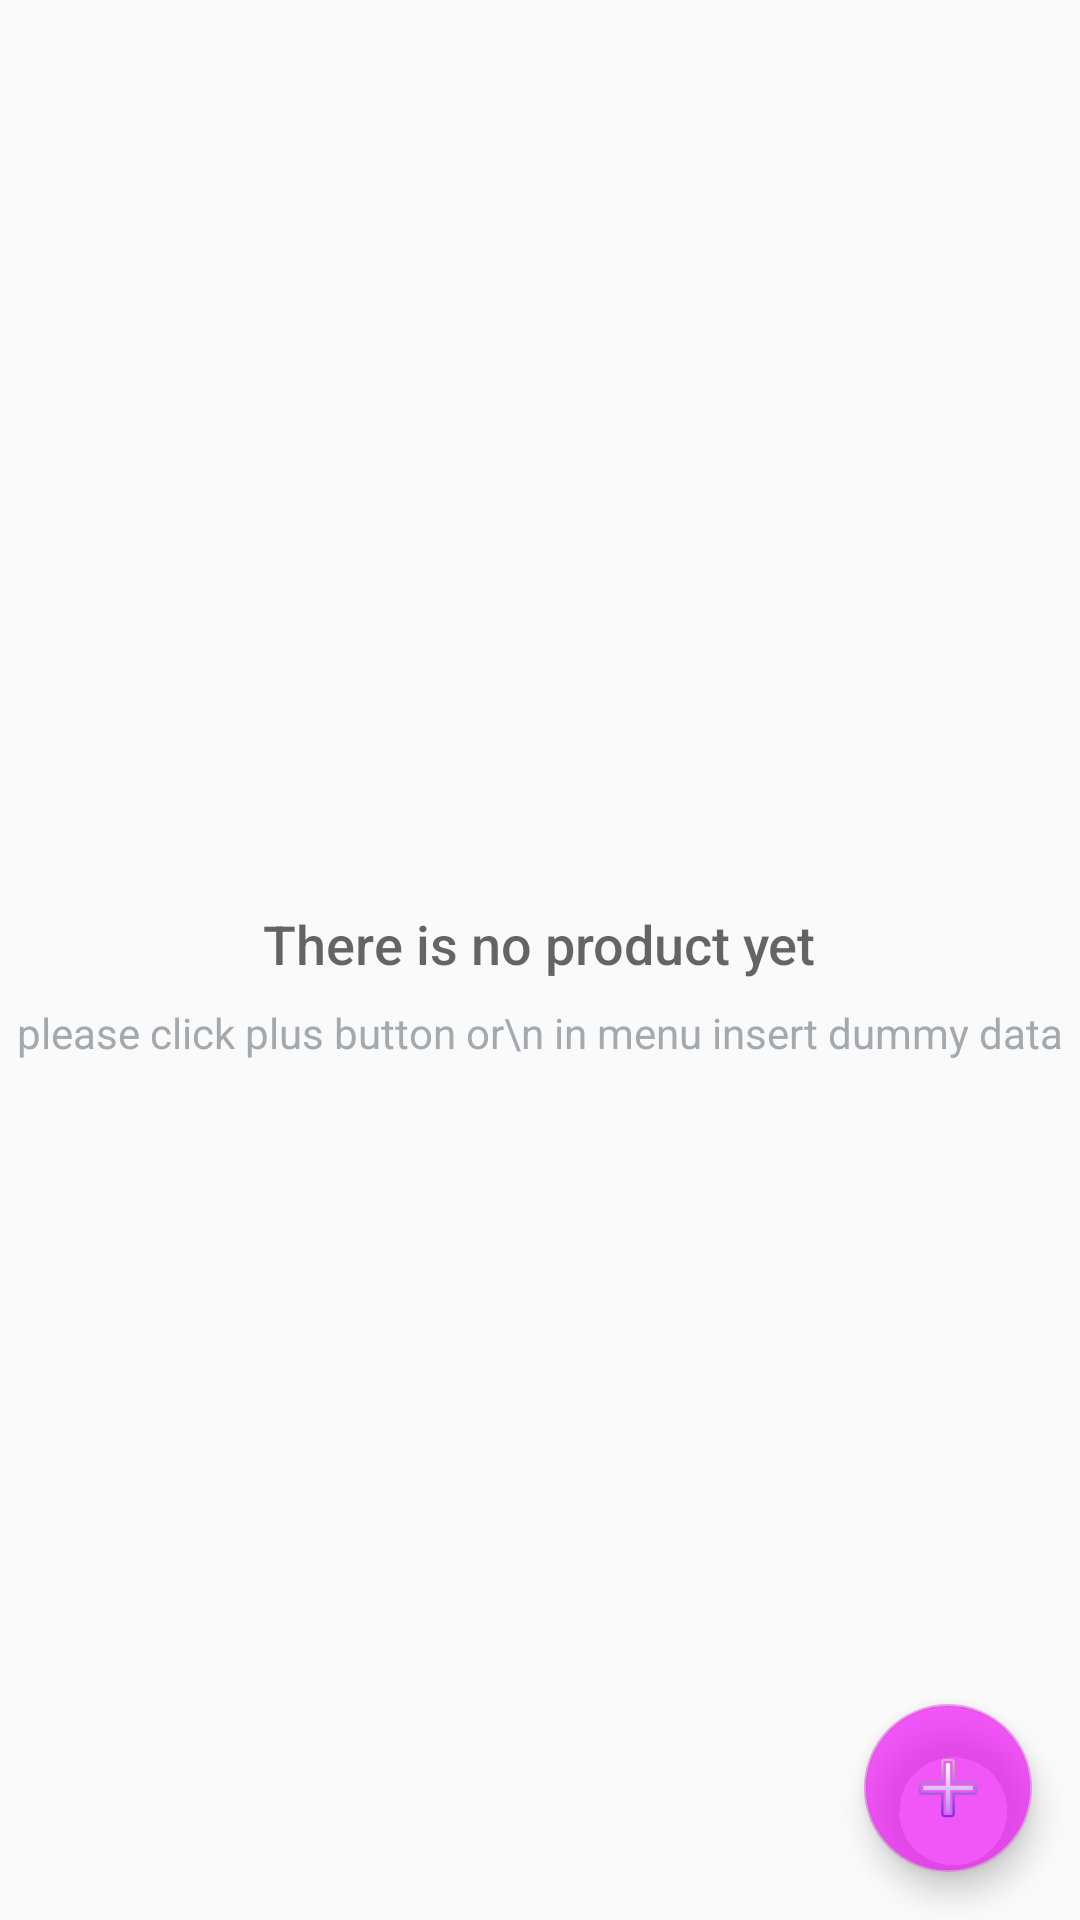

Named icons in this screenshot (1080 × 1920) and their centers, (x=x, y=y):
iconplus: (x=948, y=1788)
